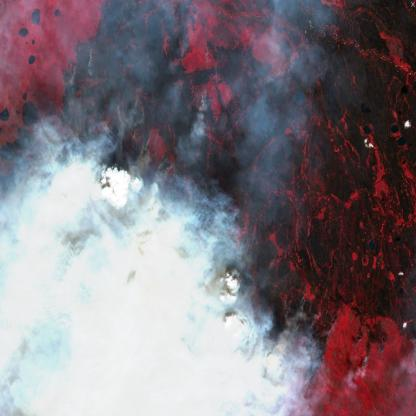fire: (51, 0, 416, 401)
